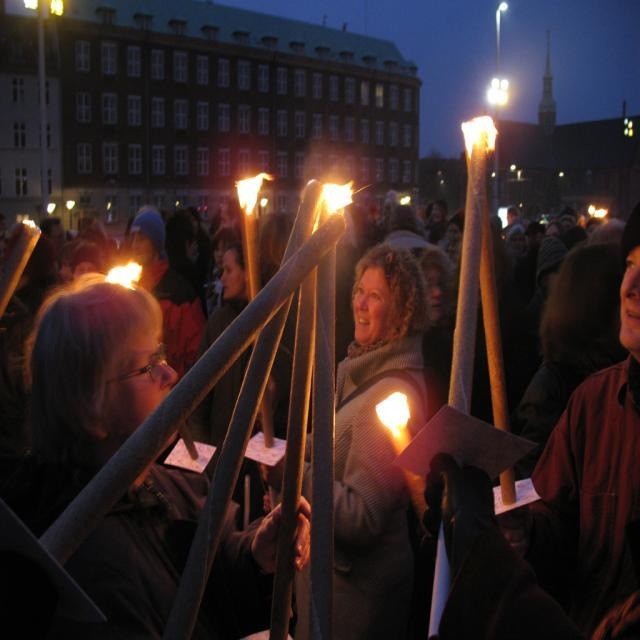Fire: (376, 392, 414, 428), (464, 113, 495, 147), (238, 176, 262, 212), (325, 184, 349, 214), (112, 262, 140, 286)
